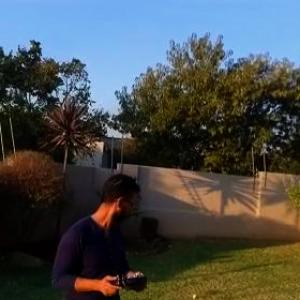follow: (44, 166, 151, 299)
